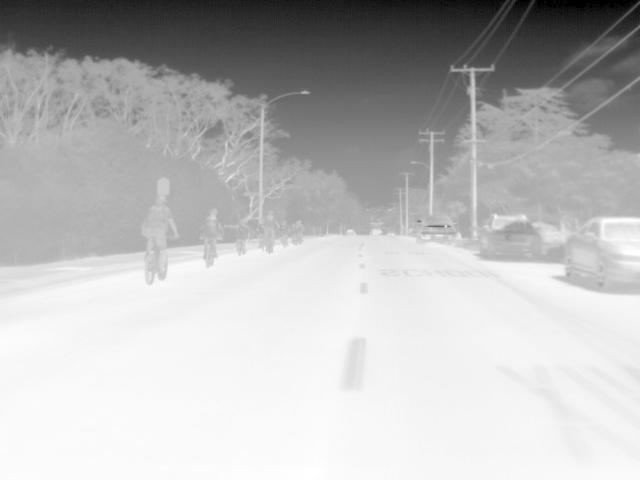car: (562, 214, 640, 290), (477, 213, 544, 260), (413, 213, 460, 247), (344, 227, 356, 237)
person: (138, 195, 180, 272), (198, 209, 225, 261), (259, 209, 280, 249), (237, 216, 251, 246), (293, 218, 306, 243), (279, 218, 291, 240)
